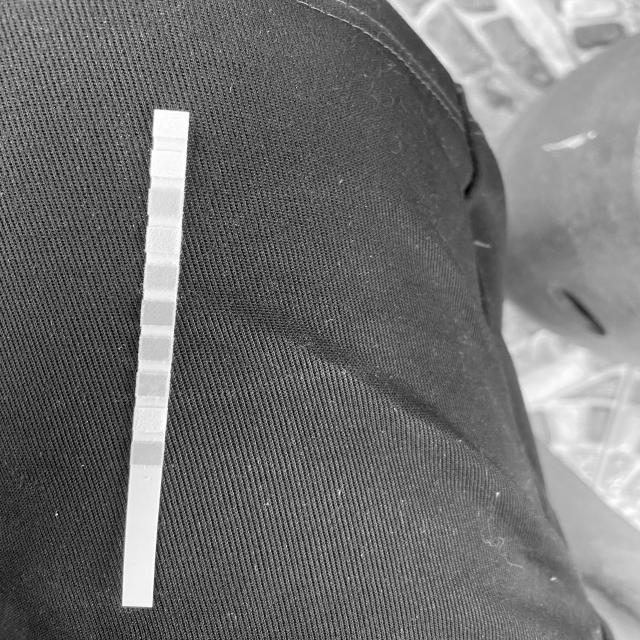Bilirubin: (136, 409, 165, 431)
Blood: (142, 302, 174, 325)
Glucose: (133, 443, 162, 463)
Ketone: (137, 374, 168, 397)
Leukocytes: (155, 112, 189, 138)
Nitrite: (152, 152, 186, 176)
Protein: (147, 230, 180, 252)
SpGravity: (140, 338, 172, 360)
Urobilinogen: (149, 192, 182, 215)
background: (0, 0, 640, 640)
pH: (146, 266, 177, 289)
strip: (123, 109, 190, 608)
